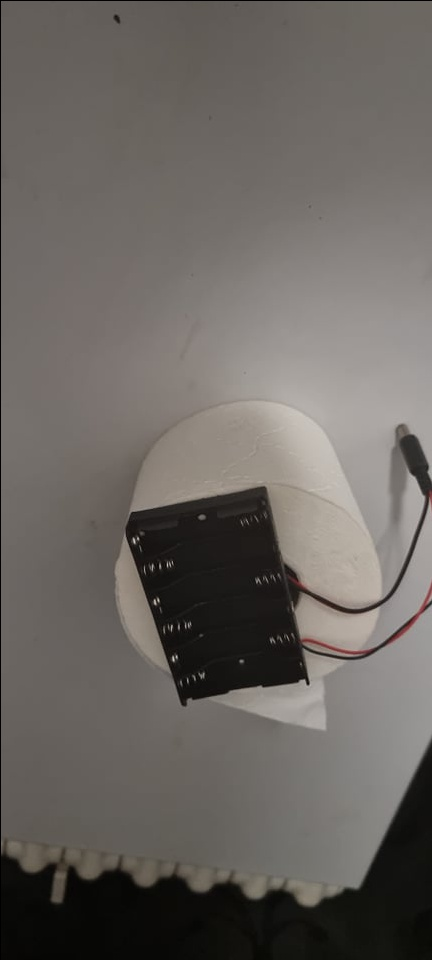BATTERY BOX: (116, 481, 312, 706)
